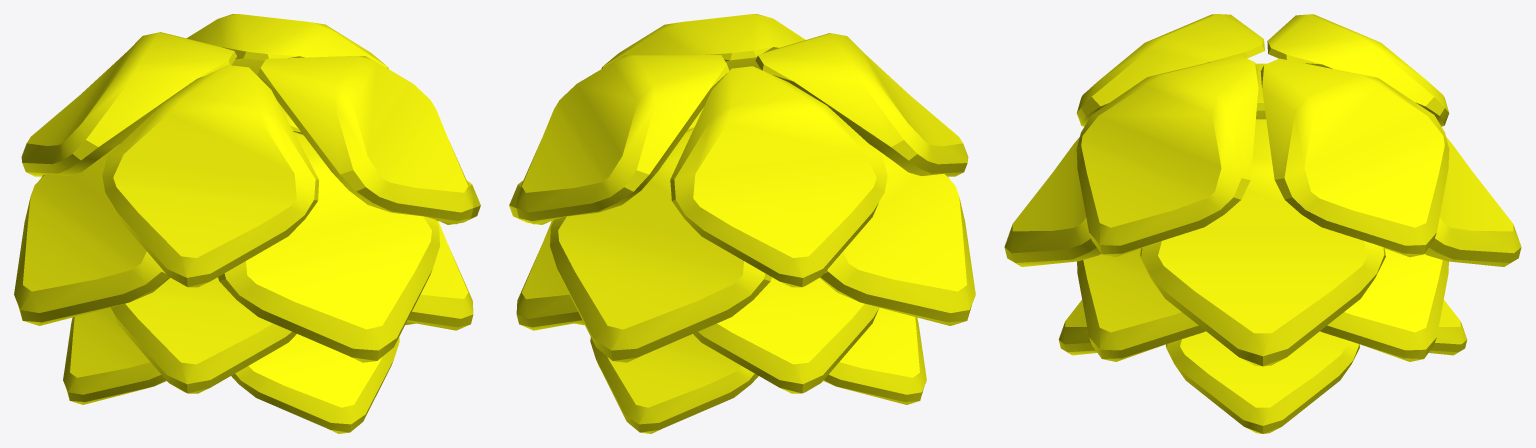
Rendered from Bush.glb.
3 views of the same model, side by side, from view 1: azimuth 30°, elevation 25°; view 2: azimuth 150°, elevation 25°; view 3: azimuth 270°, elevation 25° (orthographic).
Parts seen in each view (by area): view 1: Bush; view 2: Bush; view 3: Bush.
Boxes of the visible parts, box(x1,y1,x2,y2) form: Bush: box(14, 14, 480, 433); Bush: box(509, 14, 975, 433); Bush: box(1004, 14, 1521, 433).
Size of the model in its own units: 3.09 by 1.96 by 3.09.
Materials: 1 (1 with a texture image).
